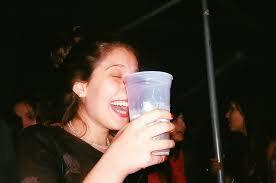Drunk: (100, 46, 138, 130)
